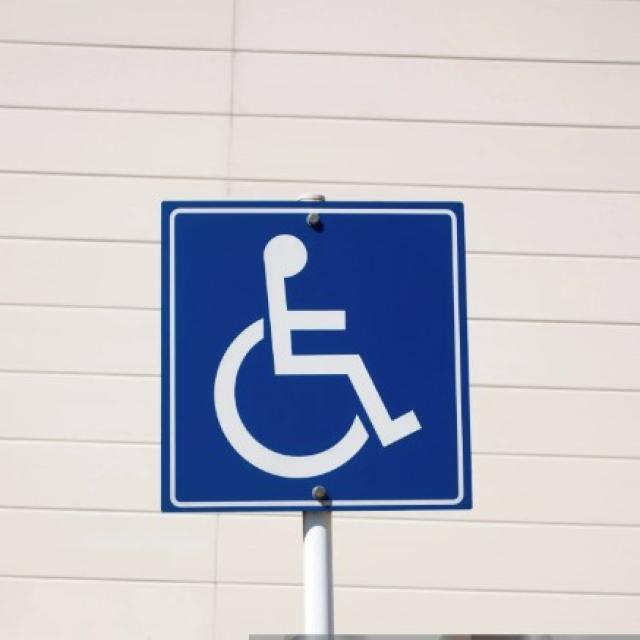symbol_of_access: (156, 197, 474, 514)
